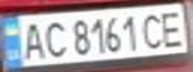1: (87, 15, 109, 55), (121, 11, 142, 52)
6: (103, 12, 124, 53)
8: (69, 16, 90, 56)
A: (18, 19, 48, 61)
C: (39, 17, 69, 60), (139, 9, 169, 50)
E: (157, 7, 190, 48)
